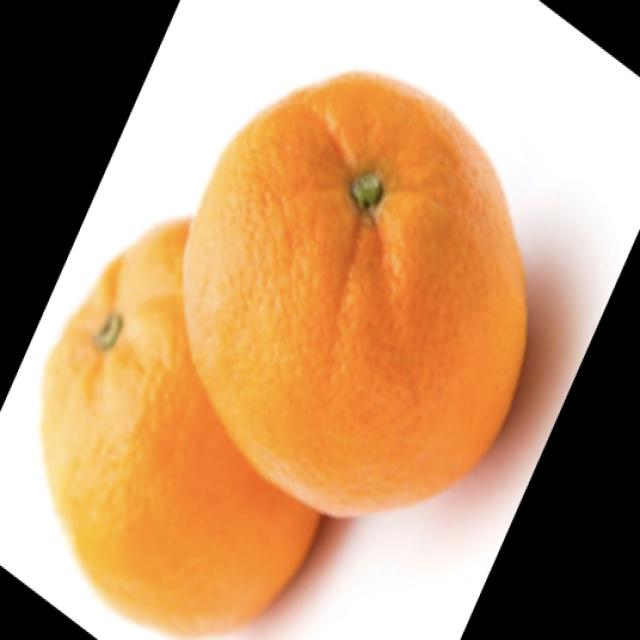orange: (29, 171, 328, 627), (202, 91, 526, 459)
